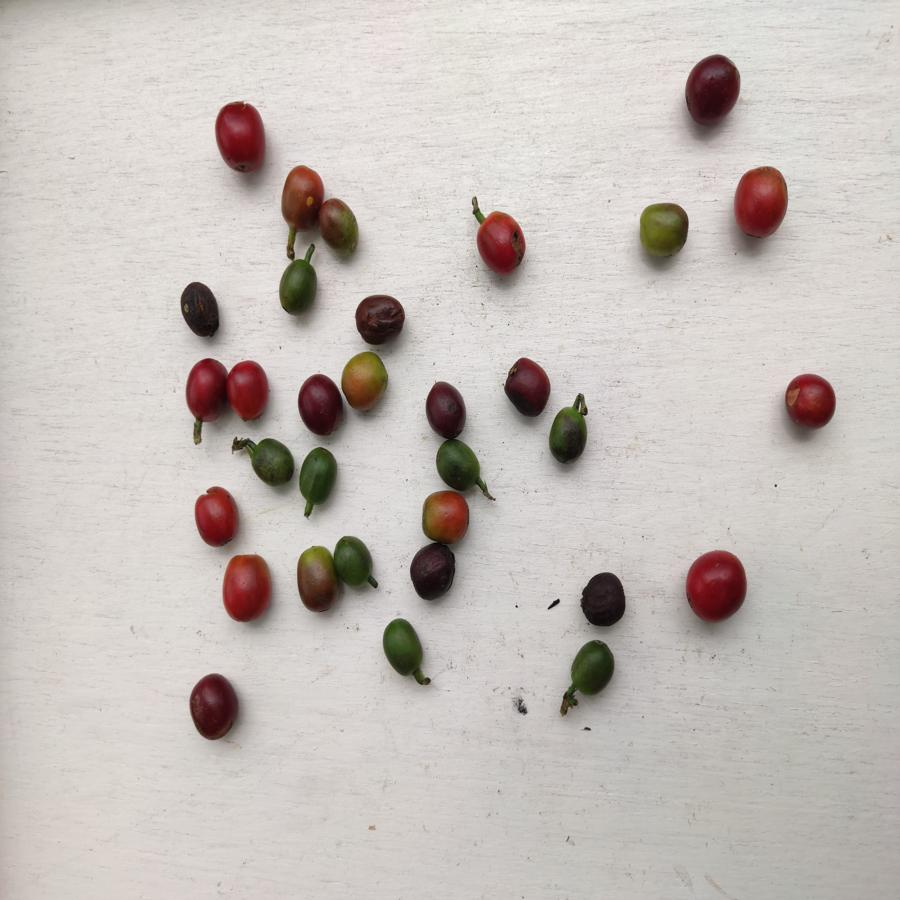Inmaduro: (379, 612, 427, 683), (568, 638, 619, 696), (247, 433, 296, 488), (277, 258, 322, 317), (430, 438, 481, 490), (296, 446, 339, 507), (334, 532, 379, 590), (548, 406, 590, 465)
Maduro: (682, 549, 750, 626), (733, 164, 791, 242), (212, 98, 266, 176), (222, 553, 274, 622), (473, 210, 527, 275), (783, 371, 837, 431), (183, 354, 227, 424), (227, 356, 273, 419), (193, 485, 240, 546)
Pinton: (340, 350, 395, 412), (294, 542, 340, 613), (637, 202, 691, 260), (314, 197, 365, 253), (280, 166, 324, 229), (418, 491, 470, 542)
Sobremaduro: (683, 53, 743, 127), (188, 669, 244, 741), (296, 373, 345, 435), (503, 355, 552, 416), (354, 292, 406, 348), (174, 280, 225, 337), (580, 569, 629, 628), (409, 542, 455, 601), (426, 380, 468, 440)
